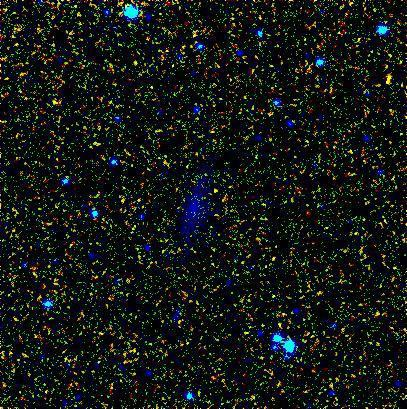star: (199, 176, 229, 206)
